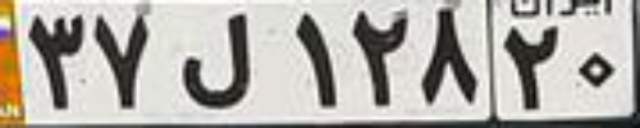0: (572, 50, 619, 88)
1: (289, 9, 337, 108)
2: (347, 9, 413, 105), (502, 23, 563, 110)
3: (24, 13, 89, 109)
7: (93, 13, 154, 110)
8: (419, 7, 479, 104)
lam: (180, 13, 256, 108)
